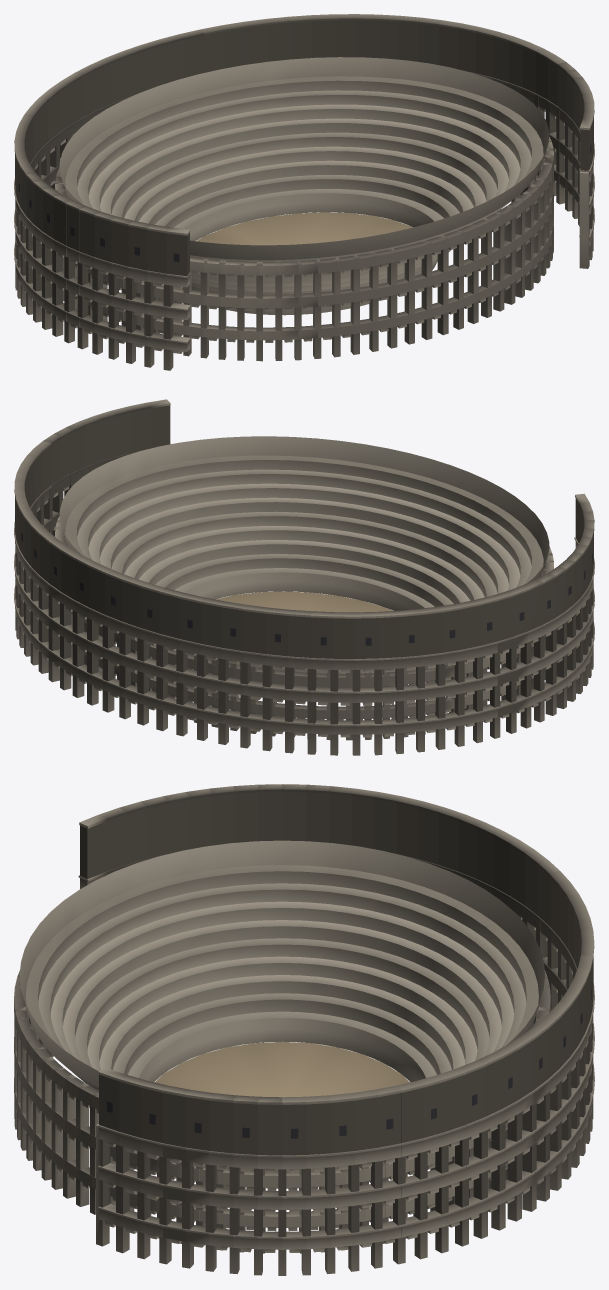
The model's file is kolosseum.glb.
3 views of the same model, one above another, from view 1: azimuth 30°, elevation 25°; view 2: azimuth 150°, elevation 25°; view 3: azimuth 270°, elevation 25° (orthographic). The views are drawn at different scales.
Visible parts, largest first — view 1: lack; view 2: lack; view 3: lack.
Boxes of the visible parts, bbox=[...] form: lack: bbox=[14, 14, 594, 370]; lack: bbox=[14, 399, 594, 755]; lack: bbox=[14, 784, 594, 1275].
Size of the model in its own units: 193 by 48.95 by 148.
